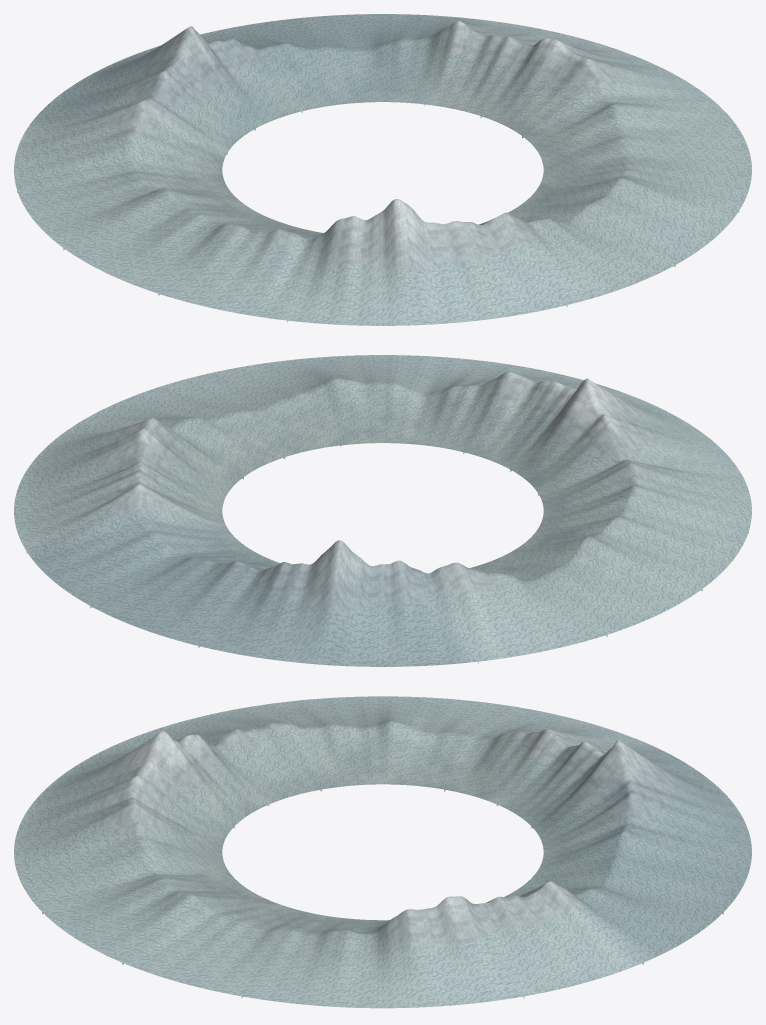
File: distant_hills_alpine.gltf
3 renders of one model, top to bottom at view 1: azimuth 30°, elevation 25°; view 2: azimuth 150°, elevation 25°; view 3: azimuth 270°, elevation 25°, orthographic.
Parts seen in each view (by area): view 1: distant_hills_alpine_s05_LOD0, distant_hills_alpine_s09_LOD0, distant_hills_alpine_s04_LOD0, distant_hills_alpine_s00_LOD0, distant_hills_alpine_s10_LOD0, distant_hills_alpine_s06_LOD0, distant_hills_alpine_s02_LOD0, distant_hills_alpine_s07_LOD0, distant_hills_alpine_s15_LOD0, distant_hills_alpine_s01_LOD0, distant_hills_alpine_s08_LOD0, distant_hills_alpine_s03_LOD0 (+4 smaller); view 2: distant_hills_alpine_s10_LOD0, distant_hills_alpine_s13_LOD0, distant_hills_alpine_s11_LOD0, distant_hills_alpine_s05_LOD0, distant_hills_alpine_s08_LOD0, distant_hills_alpine_s07_LOD0, distant_hills_alpine_s06_LOD0, distant_hills_alpine_s14_LOD0, distant_hills_alpine_s09_LOD0, distant_hills_alpine_s01_LOD0, distant_hills_alpine_s12_LOD0, distant_hills_alpine_s02_LOD0 (+4 smaller); view 3: distant_hills_alpine_s11_LOD0, distant_hills_alpine_s03_LOD0, distant_hills_alpine_s15_LOD0, distant_hills_alpine_s12_LOD0, distant_hills_alpine_s14_LOD0, distant_hills_alpine_s04_LOD0, distant_hills_alpine_s01_LOD0, distant_hills_alpine_s00_LOD0, distant_hills_alpine_s02_LOD0, distant_hills_alpine_s08_LOD0, distant_hills_alpine_s07_LOD0, distant_hills_alpine_s13_LOD0 (+4 smaller).
Part boxes in pixels (x1,y1,x2,y2): distant_hills_alpine_s05_LOD0: (287,199,430,325); distant_hills_alpine_s09_LOD0: (14,99,227,190); distant_hills_alpine_s04_LOD0: (415,212,566,324); distant_hills_alpine_s00_LOD0: (522,84,748,162); distant_hills_alpine_s10_LOD0: (27,39,255,153); distant_hills_alpine_s06_LOD0: (158,224,323,320); distant_hills_alpine_s02_LOD0: (511,177,738,266); distant_hills_alpine_s07_LOD0: (63,195,284,295); distant_hills_alpine_s15_LOD0: (480,38,701,135); distant_hills_alpine_s01_LOD0: (538,140,751,212); distant_hills_alpine_s08_LOD0: (17,168,243,247); distant_hills_alpine_s03_LOD0: (479,211,675,306); distant_hills_alpine_s10_LOD0: (335,550,478,666); distant_hills_alpine_s13_LOD0: (26,497,254,607); distant_hills_alpine_s11_LOD0: (198,540,350,665); distant_hills_alpine_s05_LOD0: (510,378,738,495); distant_hills_alpine_s08_LOD0: (481,536,701,636); distant_hills_alpine_s07_LOD0: (522,494,748,591); distant_hills_alpine_s06_LOD0: (538,449,751,533); distant_hills_alpine_s14_LOD0: (14,454,227,551); distant_hills_alpine_s09_LOD0: (446,562,607,661); distant_hills_alpine_s01_LOD0: (159,360,340,458); distant_hills_alpine_s12_LOD0: (90,552,279,646); distant_hills_alpine_s02_LOD0: (288,355,430,446); distant_hills_alpine_s11_LOD0: (531,740,751,852); distant_hills_alpine_s03_LOD0: (14,804,233,911); distant_hills_alpine_s15_LOD0: (383,896,523,1008); distant_hills_alpine_s12_LOD0: (532,822,751,914); distant_hills_alpine_s14_LOD0: (476,881,643,998); distant_hills_alpine_s04_LOD0: (14,750,234,852); distant_hills_alpine_s01_LOD0: (122,900,320,996); distant_hills_alpine_s00_LOD0: (241,915,382,1008); distant_hills_alpine_s02_LOD0: (42,875,268,964); distant_hills_alpine_s08_LOD0: (383,696,523,791); distant_hills_alpine_s07_LOD0: (242,696,382,789); distant_hills_alpine_s13_LOD0: (504,875,723,964).
Size of what is drawn, in the model's own units: 1700 by 198 by 1700.
Materials: 2 (2 with a texture image).
